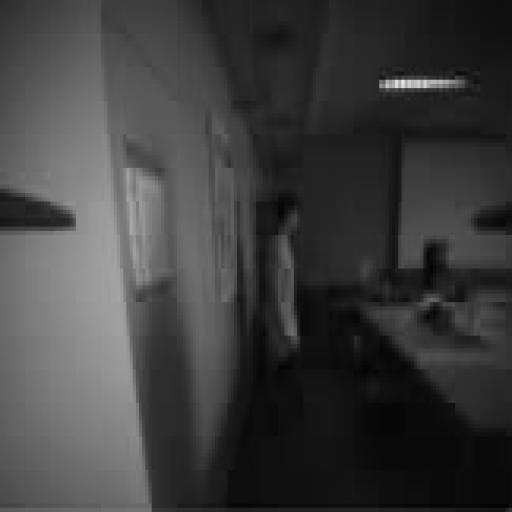human: (263, 194, 303, 407)
